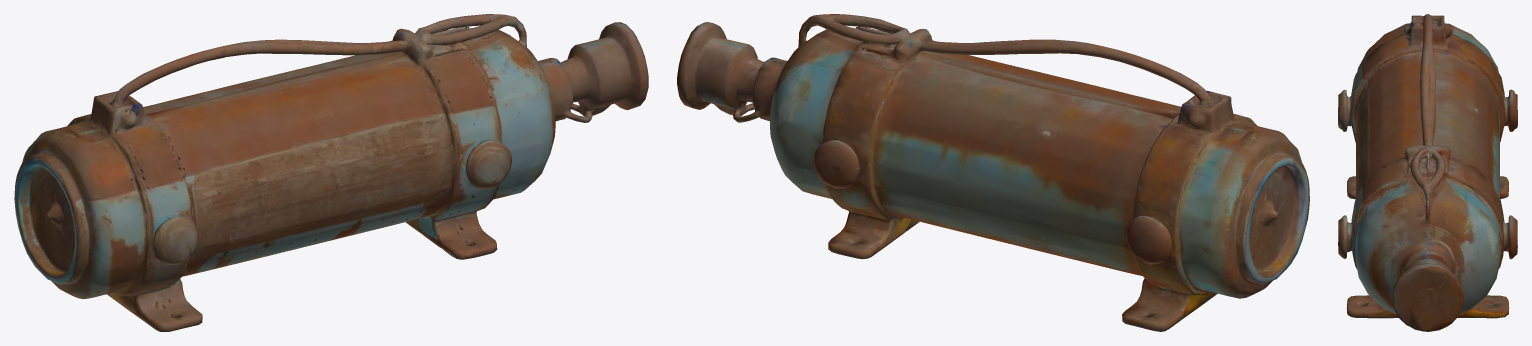
File: axe_opt.glb
3 views of the same model, side by side, from view 1: azimuth 30°, elevation 25°; view 2: azimuth 150°, elevation 25°; view 3: azimuth 270°, elevation 25° (orthographic). The views are drawn at different scales.
Visible parts, largest first — view 1: file1_Material_1_0; view 2: file1_Material_1_0; view 3: file1_Material_1_0.
Part boxes in pixels (x1,y1,x2,y2): file1_Material_1_0: (14,14,648,331); file1_Material_1_0: (677,14,1309,331); file1_Material_1_0: (1338,14,1517,331).
Size of the model in its own units: 2 by 0.7423 by 0.6512.
Materials: 1 (1 with a texture image).
